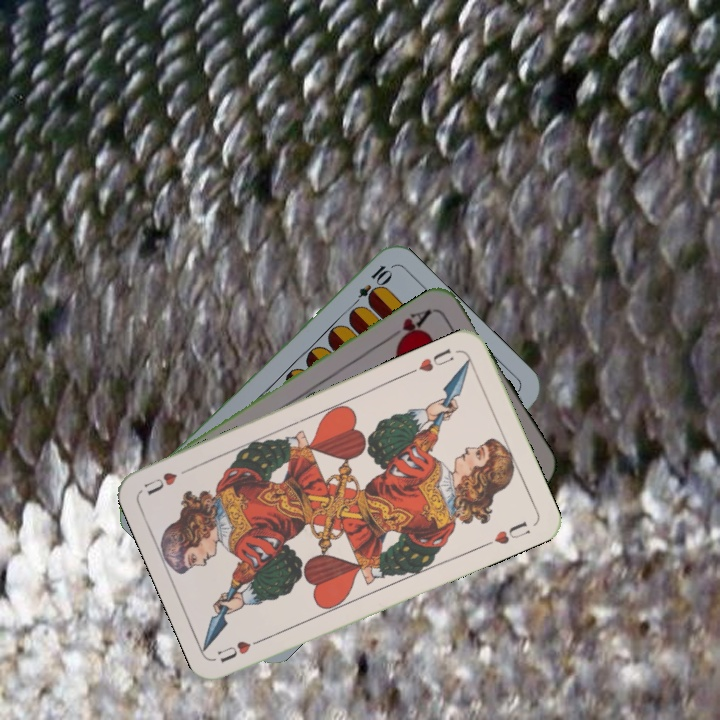E10: (347, 261, 394, 312)
HA: (383, 304, 436, 349)
HU: (213, 633, 270, 666), (406, 345, 455, 377)
